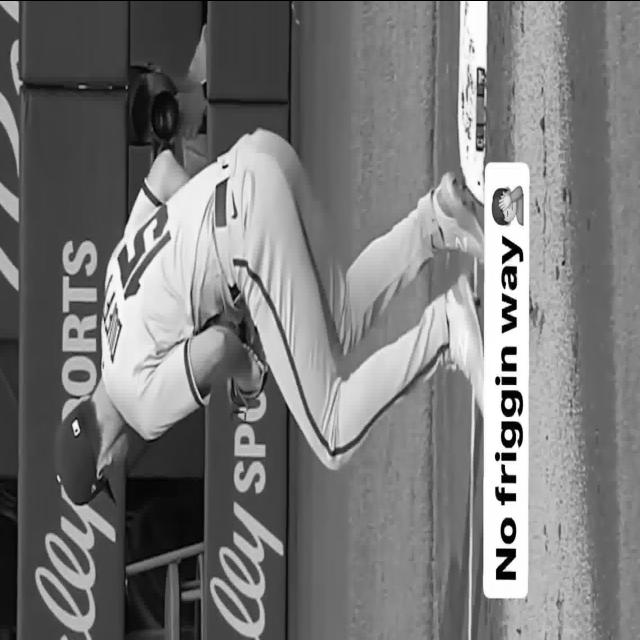base: (458, 0, 488, 202)
baseball_glove: (228, 284, 269, 413)
shoe: (446, 273, 484, 410), (432, 171, 484, 262)
